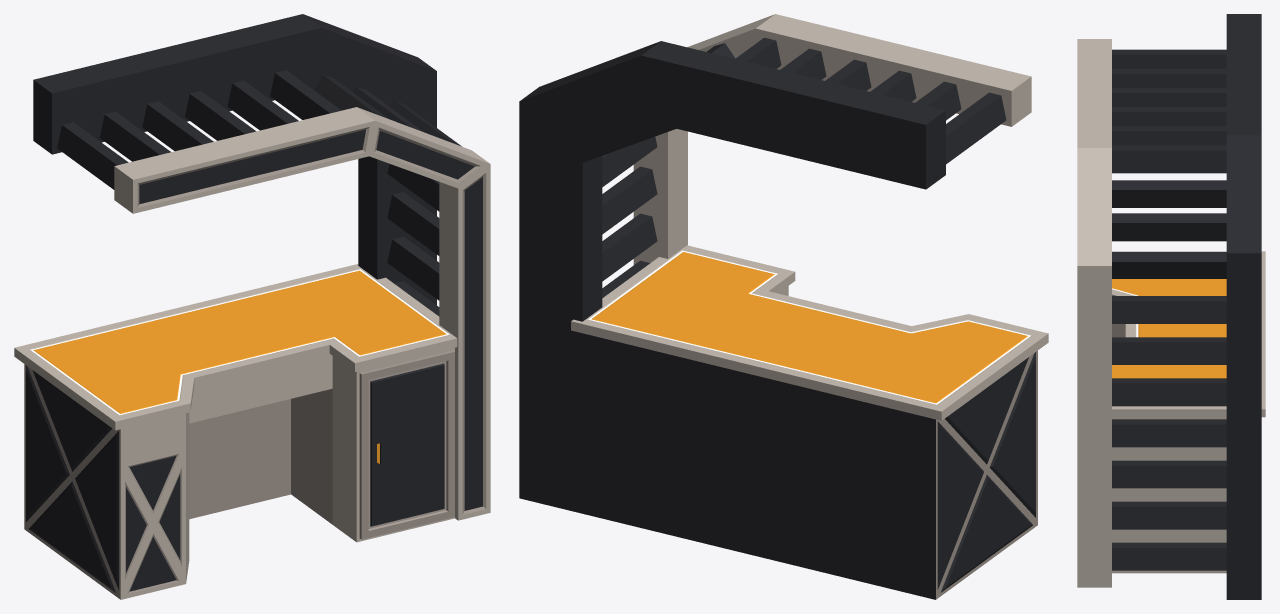
The model's file is SM_Desktop.glb.
3 views of the same model, side by side, from view 1: azimuth 30°, elevation 25°; view 2: azimuth 150°, elevation 25°; view 3: azimuth 270°, elevation 25° (orthographic). The views are drawn at different scales.
Parts seen in each view (by area): view 1: SM_Desktop; view 2: SM_Desktop; view 3: SM_Desktop.
Boxes of the visible parts, left/top/right/bottom form: SM_Desktop: left=14, top=14, right=490, bottom=599; SM_Desktop: left=519, top=14, right=1048, bottom=599; SM_Desktop: left=1077, top=14, right=1265, bottom=599.
Size of the model in its own units: 1.92 by 2.04 by 0.844.
2 materials, 1 textured.
